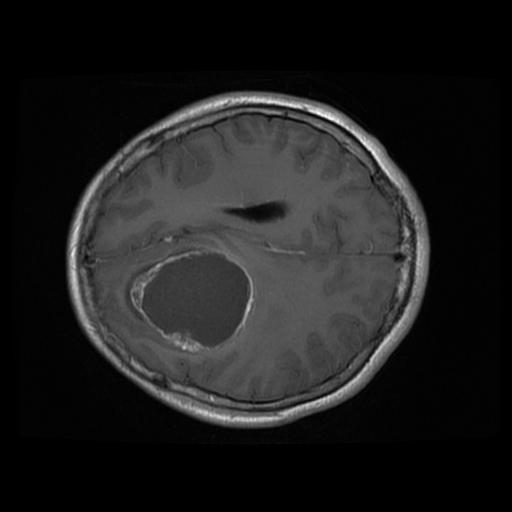glioma: (123, 248, 255, 354)
